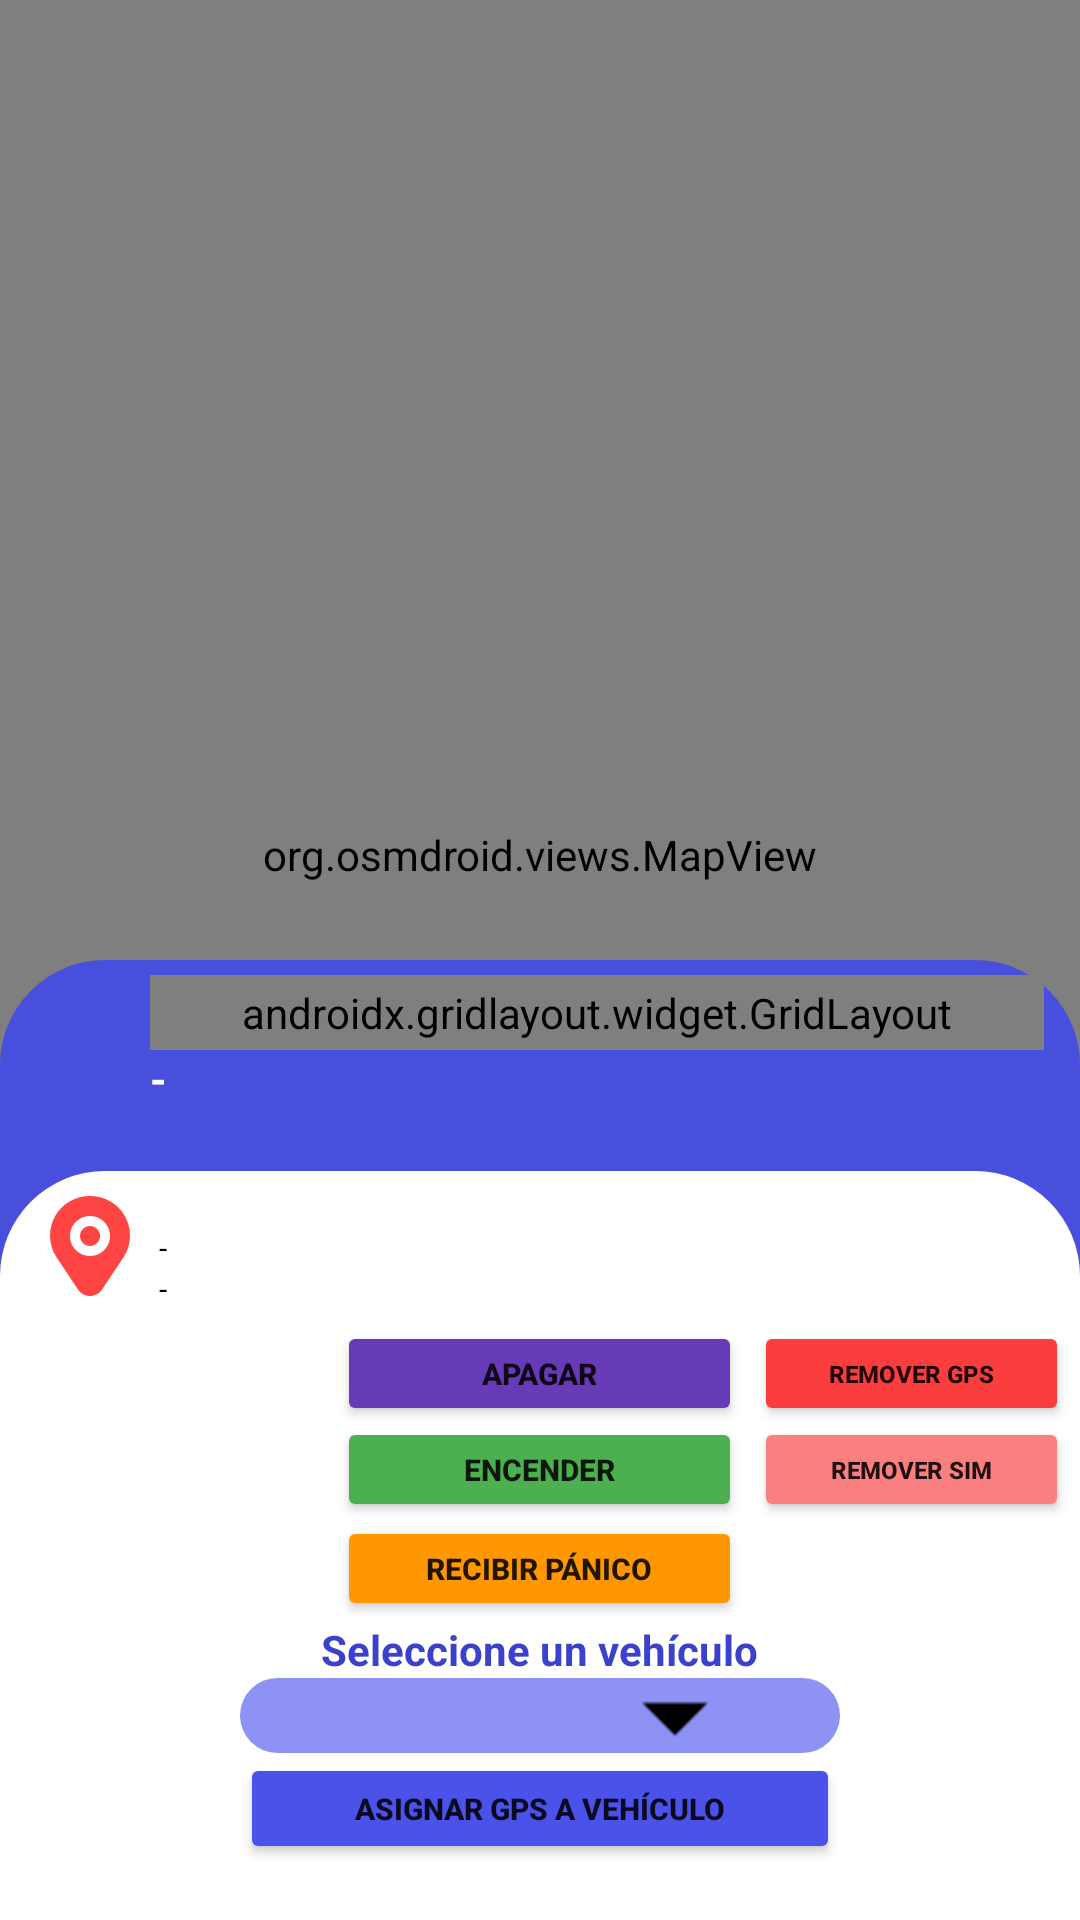

Icon click points for this 1080*1920 phone screenshot, format [x,y]:
location: [90,1246]
